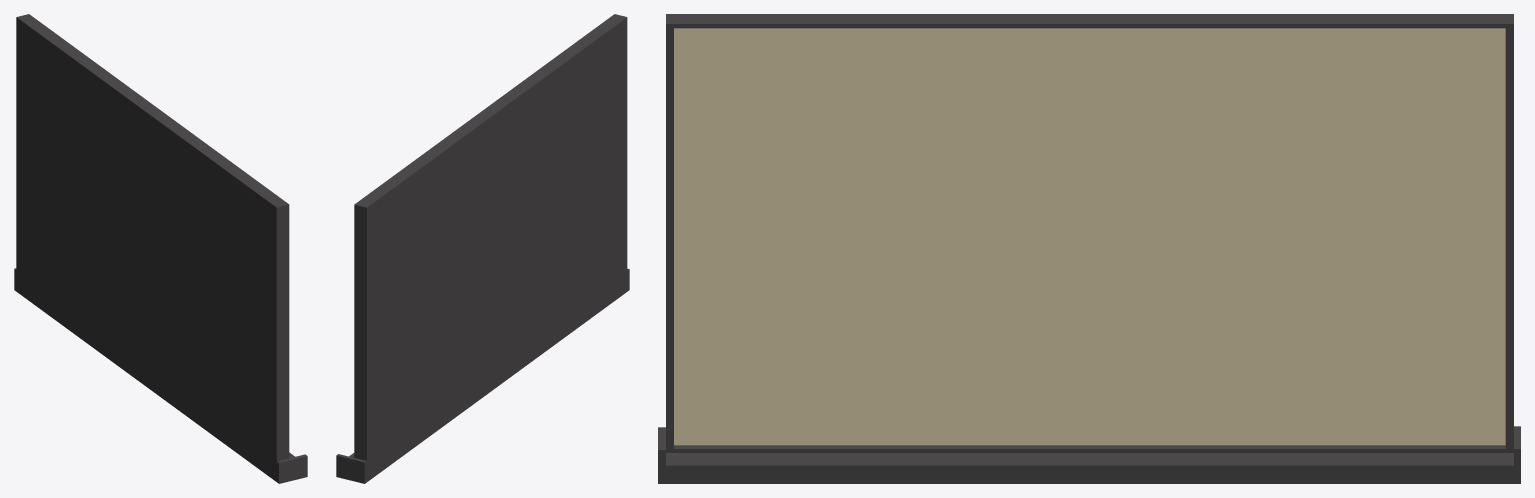
Rendered from Доска.fbx.
3 renders of one model, left to right at view 1: azimuth 30°, elevation 25°; view 2: azimuth 150°, elevation 25°; view 3: azimuth 270°, elevation 25°, orthographic. The views are drawn at different scales.
Visible parts, largest first — view 1: Cube.001; view 2: Cube.001; view 3: Cube.001.
Boxes of the visible parts, <box> form: Cube.001: <box>14,14,307,483</box>; Cube.001: <box>336,14,629,483</box>; Cube.001: <box>658,14,1520,483</box>.
Bounding box in the file's own units: 75.72 × 695 × 1216.
